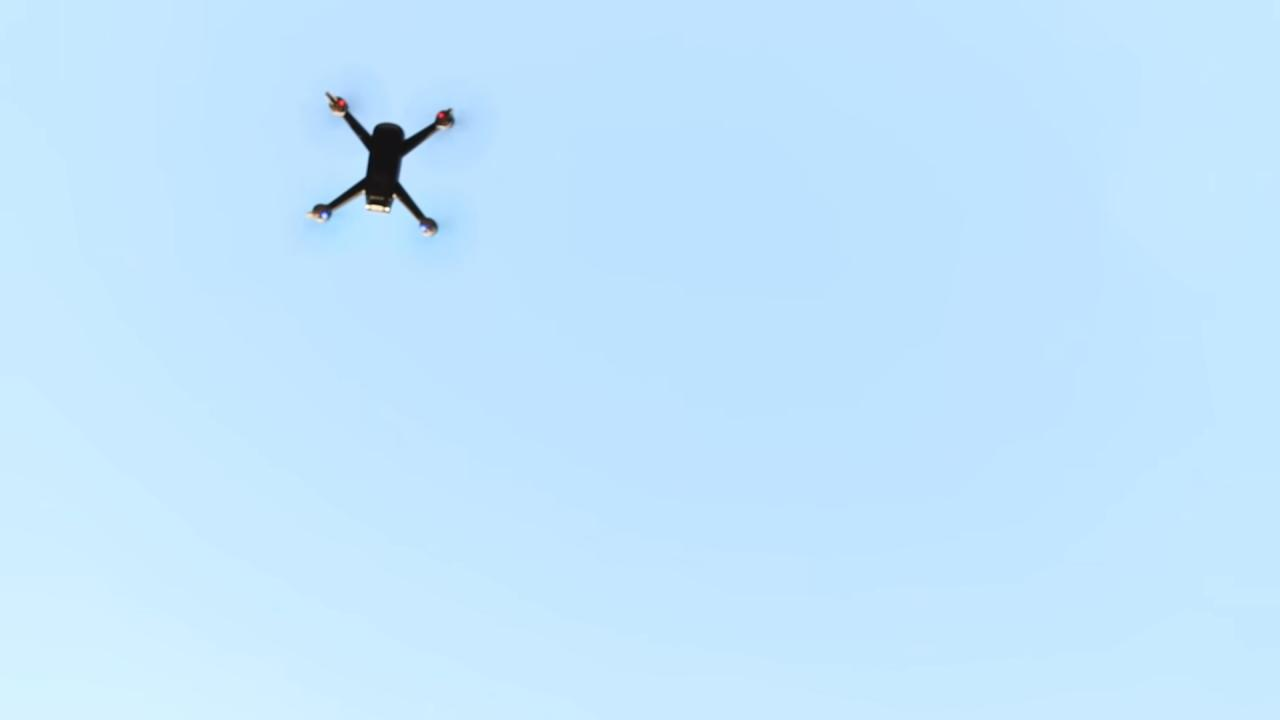Drone: (290, 72, 475, 258)
